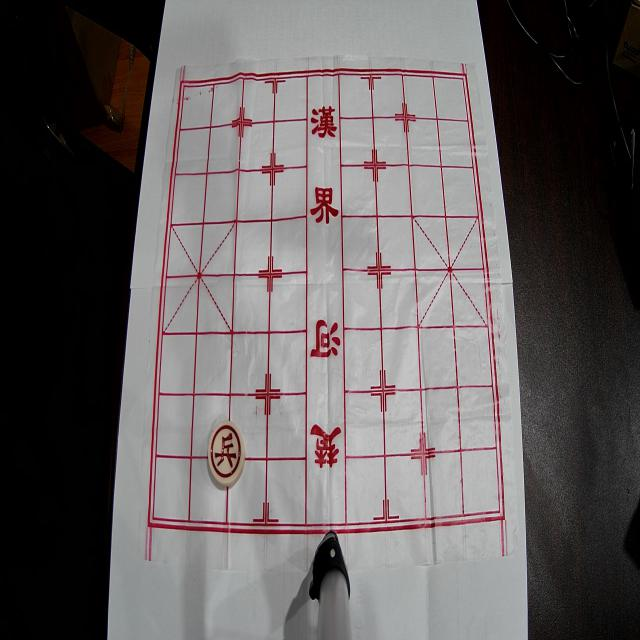red-soldier: (208, 421, 245, 486)
